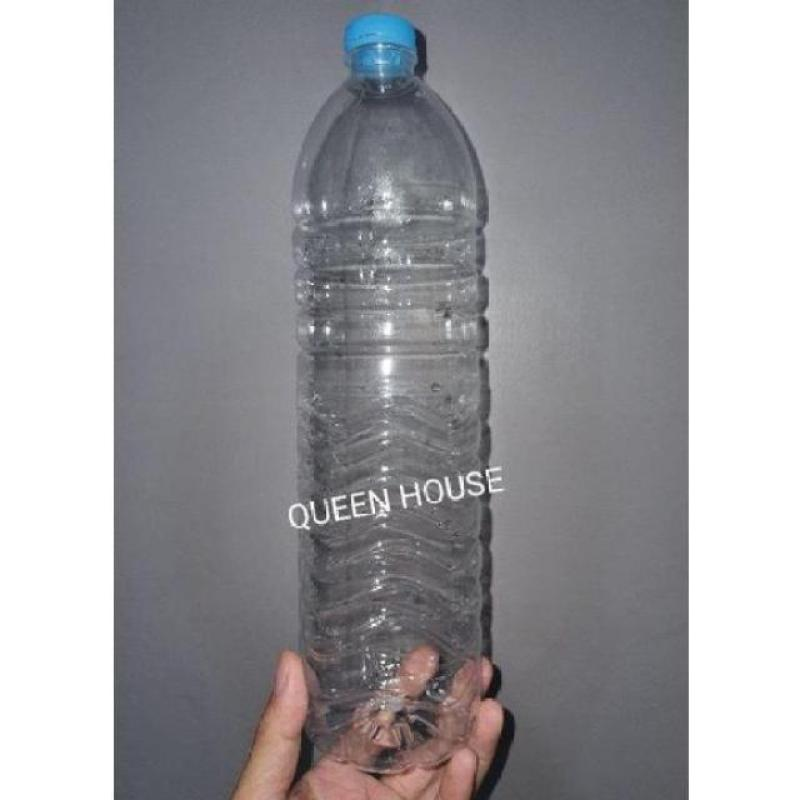botella: (289, 12, 487, 776)
